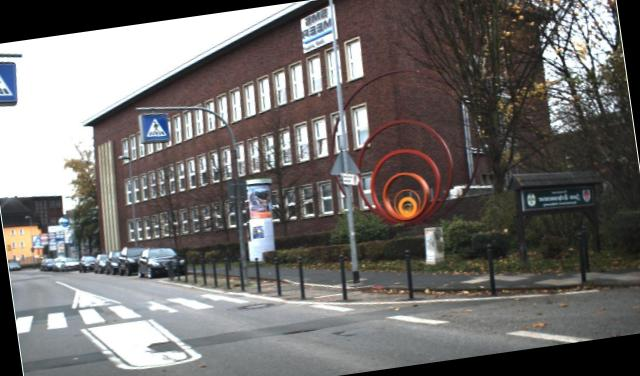crosswalk-sign: (139, 111, 173, 147), (1, 57, 22, 109)
